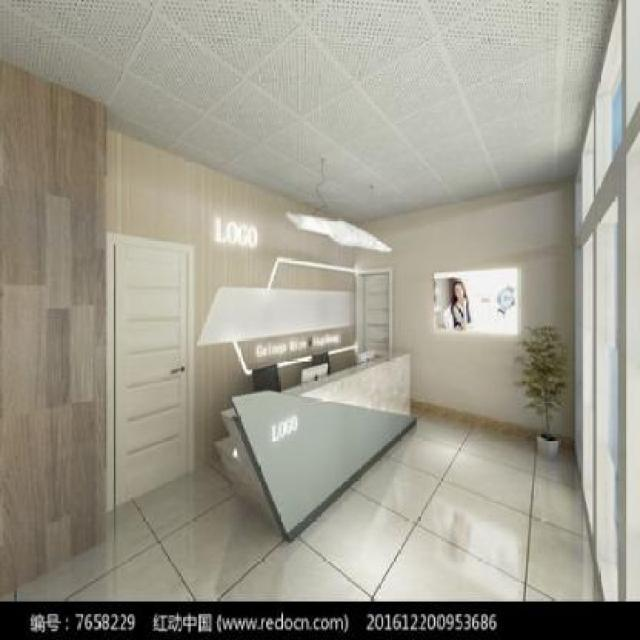frontdesk: (210, 337, 422, 545)
